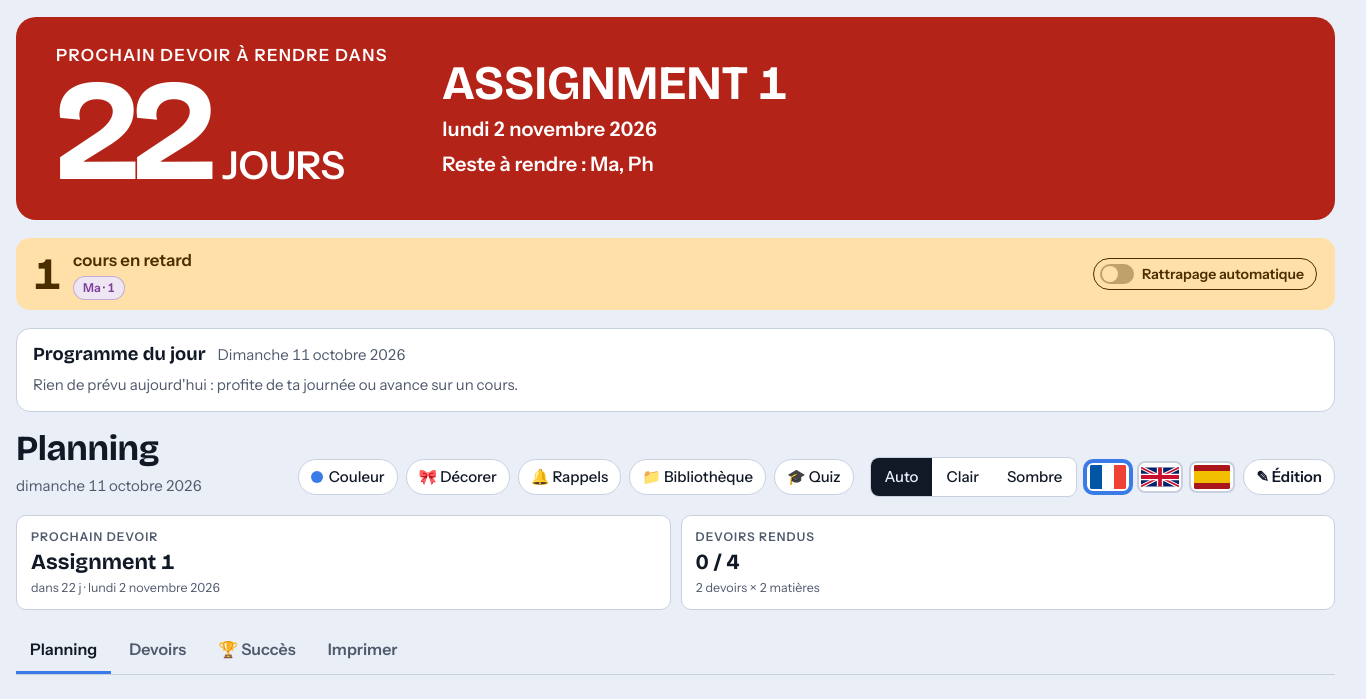
Scenario: achievements › has a tab with the trophy room: count, streak, groups and a medal for every tier
This screenshot has width=1366, height=699.
Click the tab "🏆 Succès". click: (257,651)
box: [204,628,310,674]
(page scrolled)
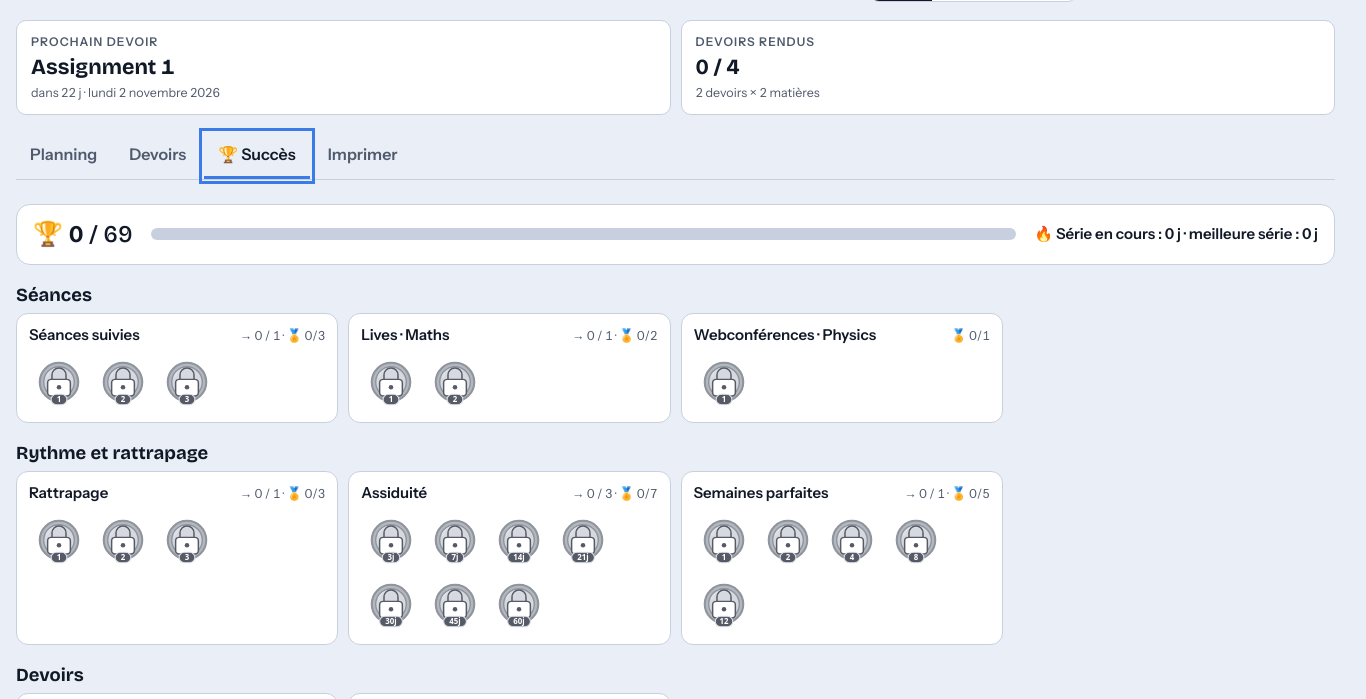
Expected: the text "🔥 Série en cours : 0 j · meilleure série : 0 j" is shown, [1034,223,1318,245]
Expected: the heading "Séances" is shown, [16,284,92,306]
Expected: the heading "Rythme et rattrapage" is shown, [16,442,208,464]
